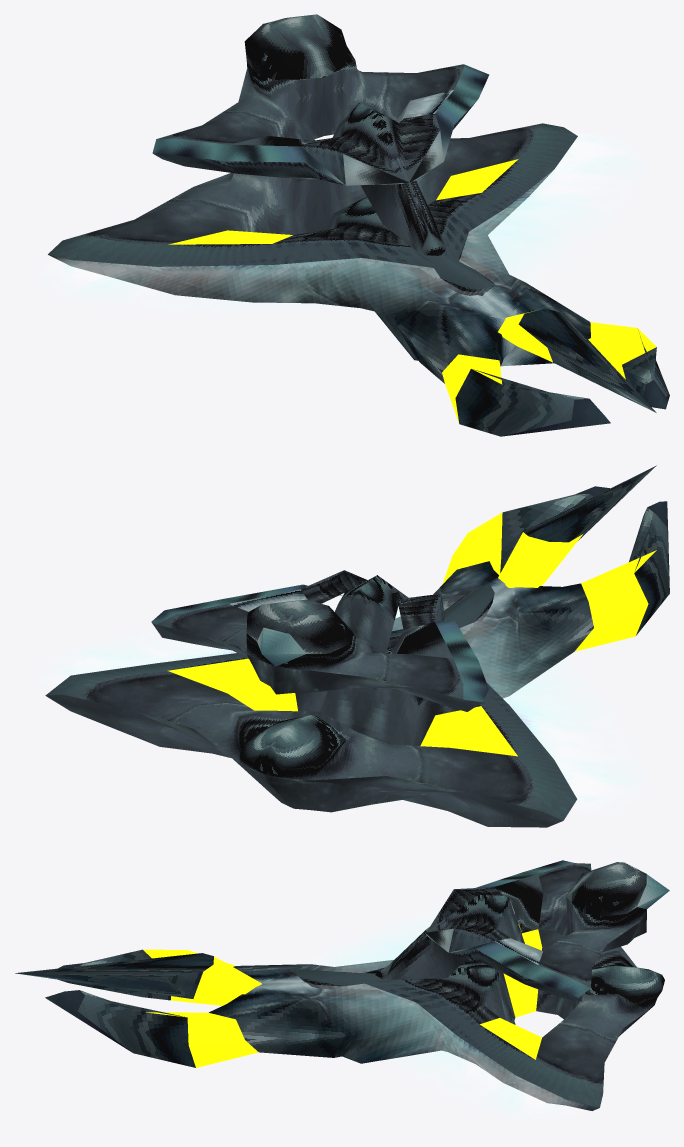
Rendered from sssupermonolith_3db.gltf.
The picture shows the model from 3 angles, top to bottom: view 1: azimuth 30°, elevation 25°; view 2: azimuth 150°, elevation 25°; view 3: azimuth 270°, elevation 25°; orthographic projection. The views are drawn at different scales.
Parts seen in each view (by area): view 1: sssupermonolith.3db; view 2: sssupermonolith.3db; view 3: sssupermonolith.3db.
Part boxes in pixels (left/top/right/bottom): sssupermonolith.3db: left=47, top=14, right=669, bottom=436; sssupermonolith.3db: left=45, top=465, right=669, bottom=827; sssupermonolith.3db: left=15, top=860, right=669, bottom=1114.
Size of the model in its own units: 43.06 by 14.98 by 48.61.
Materials: 6 (6 with a texture image).
